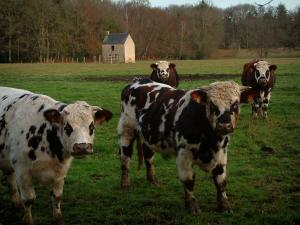cow: (117, 60, 275, 210), (0, 86, 111, 223)
